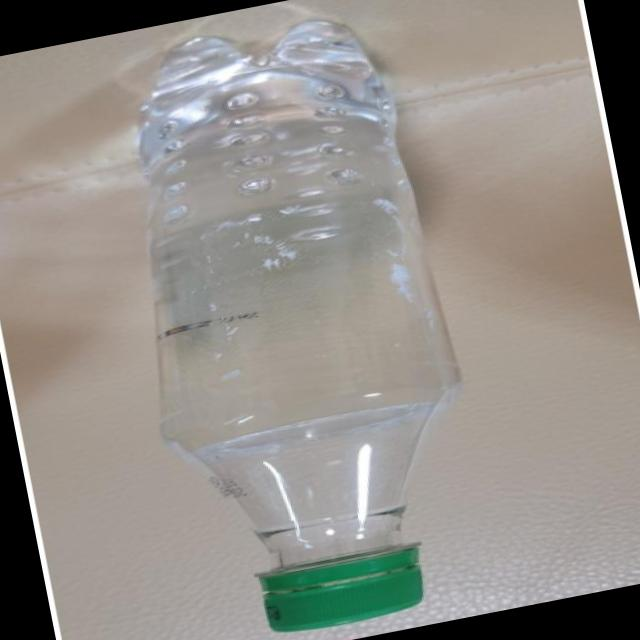plastic_bottle: (87, 0, 503, 640)
